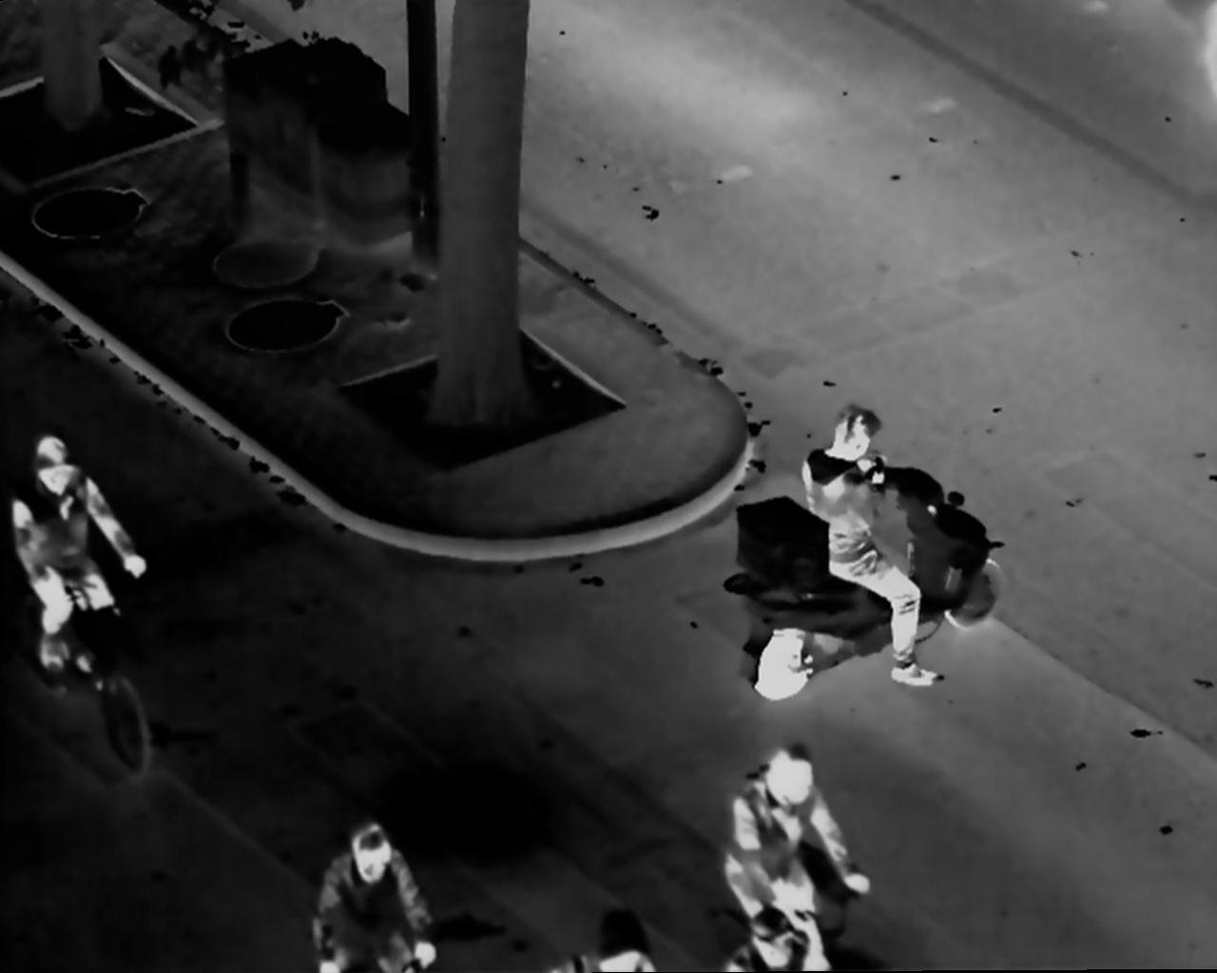person: (796, 402, 954, 690), (719, 741, 873, 973), (10, 429, 144, 682), (313, 819, 442, 973), (566, 911, 662, 973)
